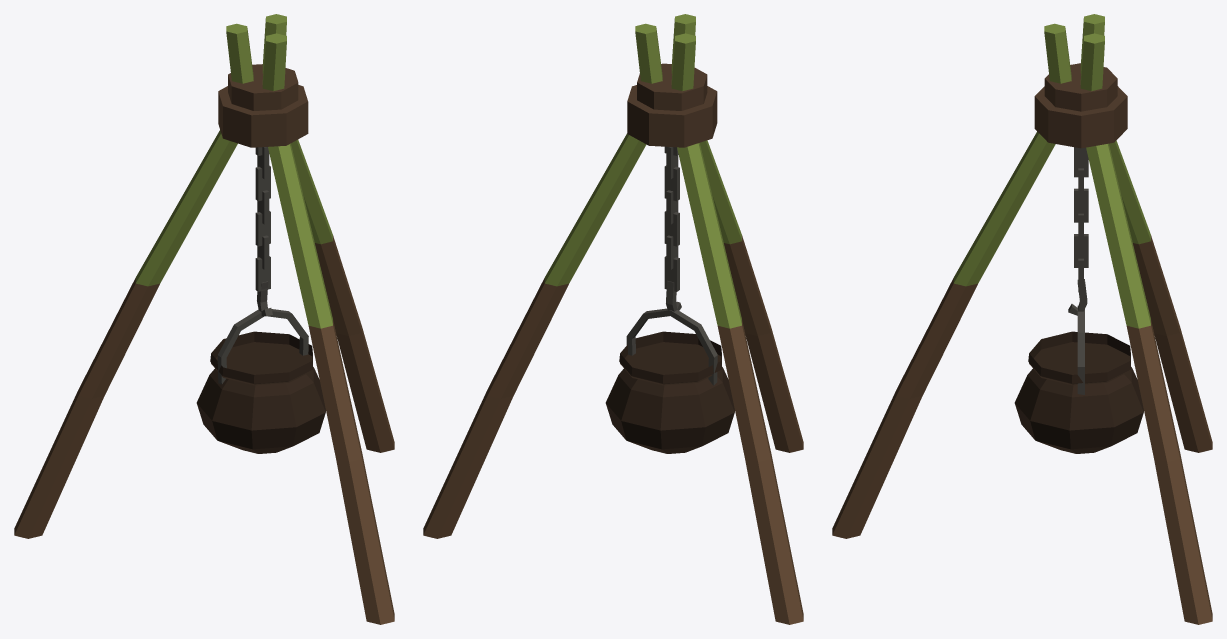
File: campfire-cook-tripod-d95a1e.glb
3 renders of one model, left to right at view 1: azimuth 30°, elevation 25°; view 2: azimuth 150°, elevation 25°; view 3: azimuth 270°, elevation 25°, orthographic.
Visible parts, largest first — view 1: tripod-frame, cauldron; view 2: tripod-frame, cauldron; view 3: tripod-frame, cauldron.
Part boxes in pixels (left/top/right/bottom): tripod-frame: left=14, top=14, right=394, bottom=624; cauldron: left=196, top=309, right=325, bottom=453; tripod-frame: left=423, top=14, right=803, bottom=624; cauldron: left=605, top=308, right=734, bottom=453; tripod-frame: left=832, top=14, right=1212, bottom=624; cauldron: left=1014, top=305, right=1143, bottom=453.
Size of the model in its own units: 1.03 by 1.3 by 0.8908.
